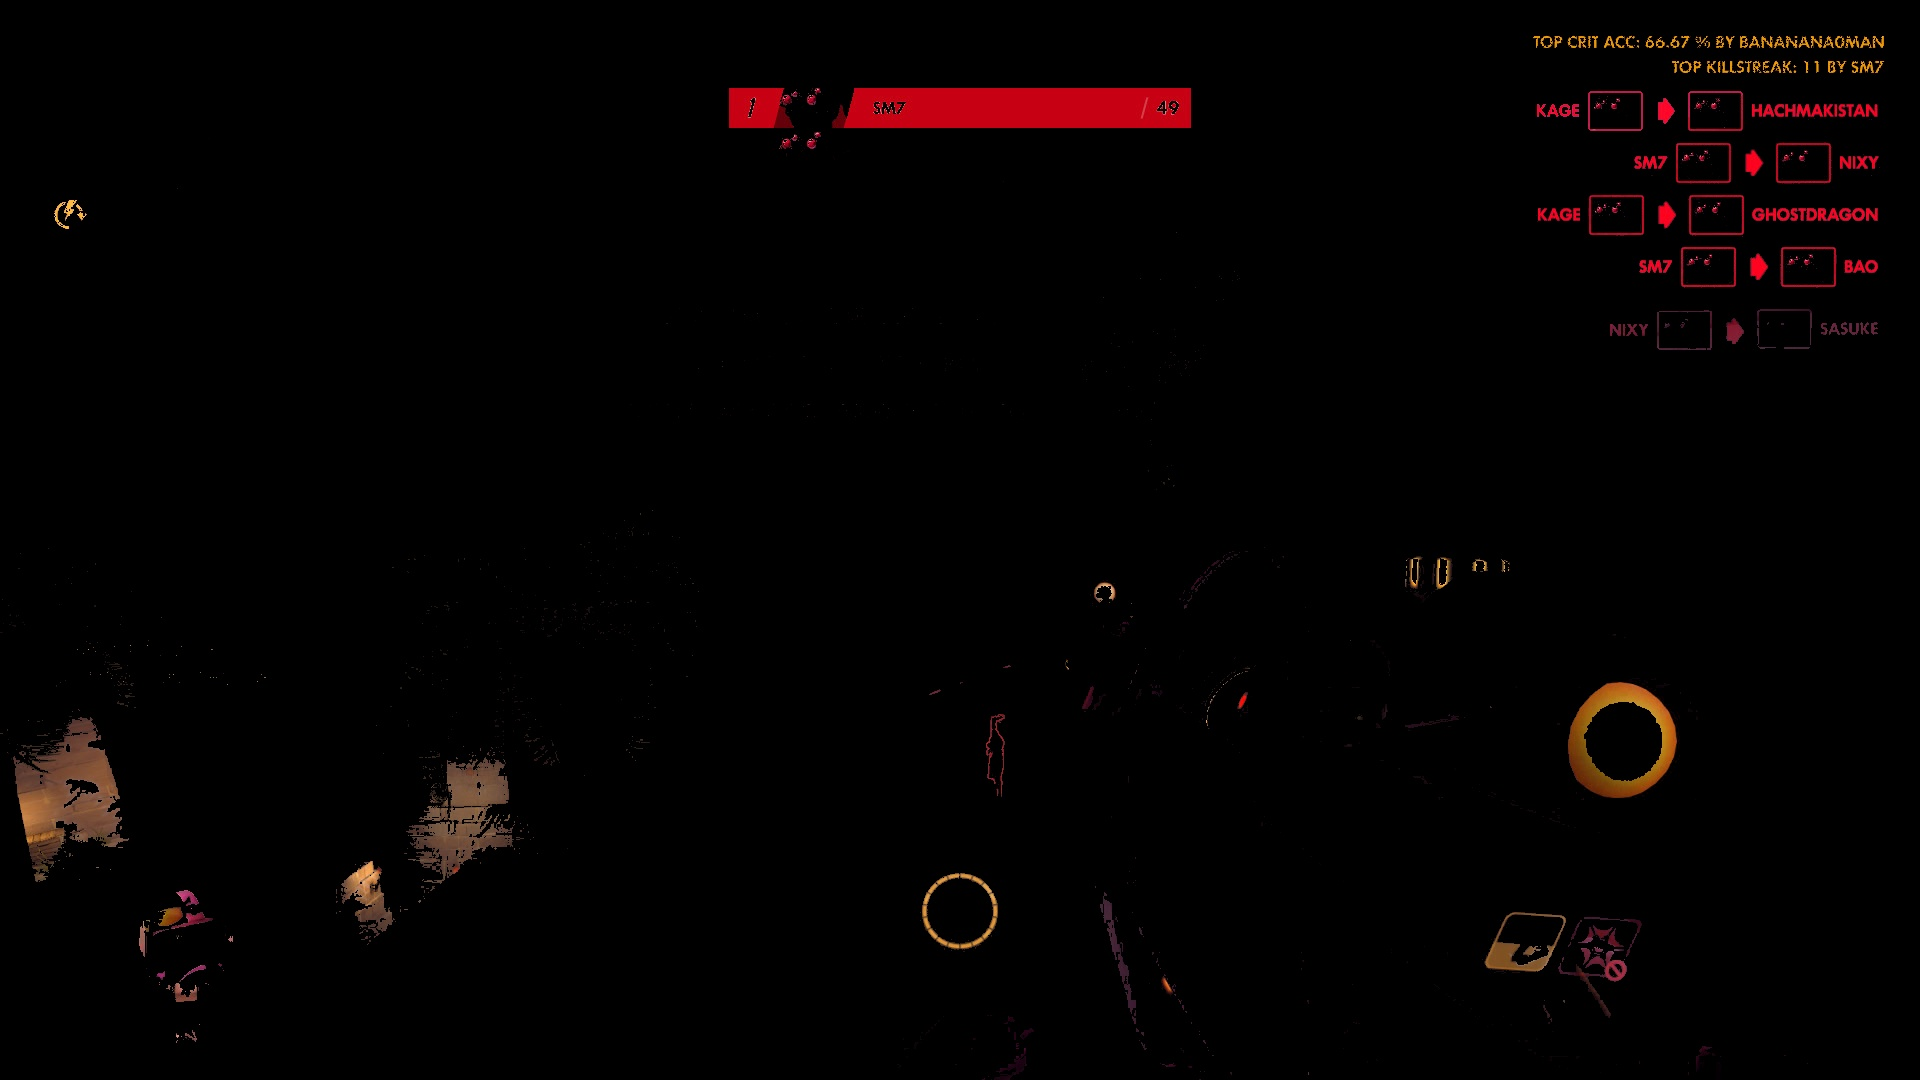widowmaker: (982, 712, 1011, 810)
